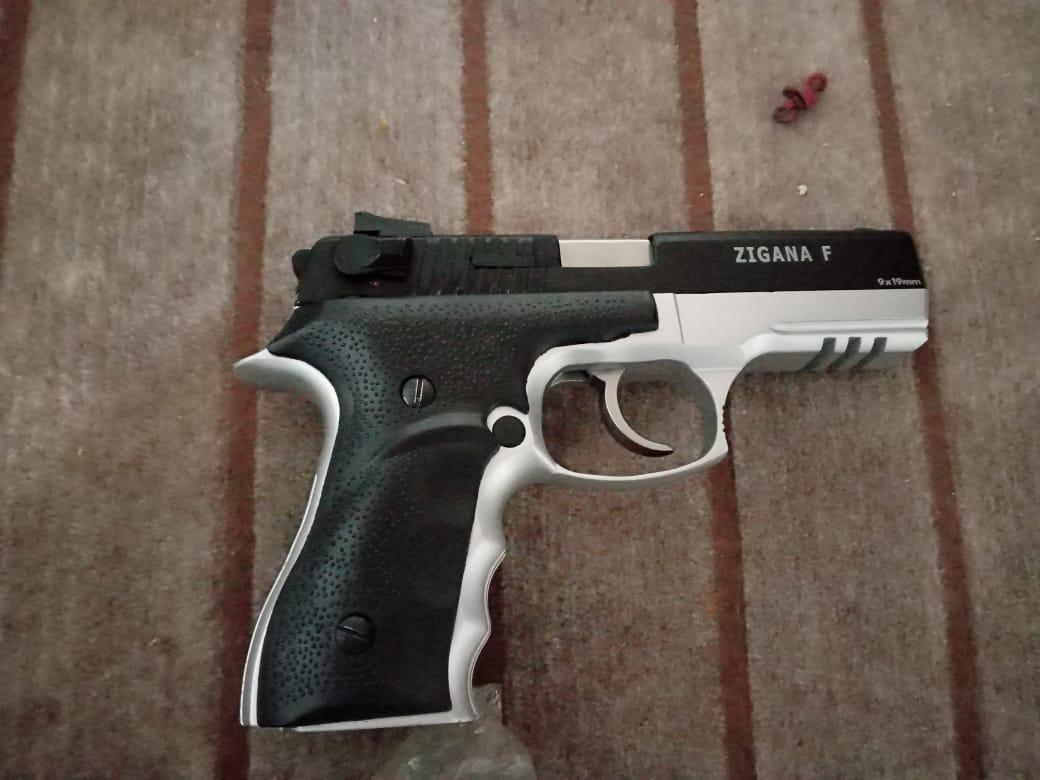weapon: (234, 212, 929, 736)
